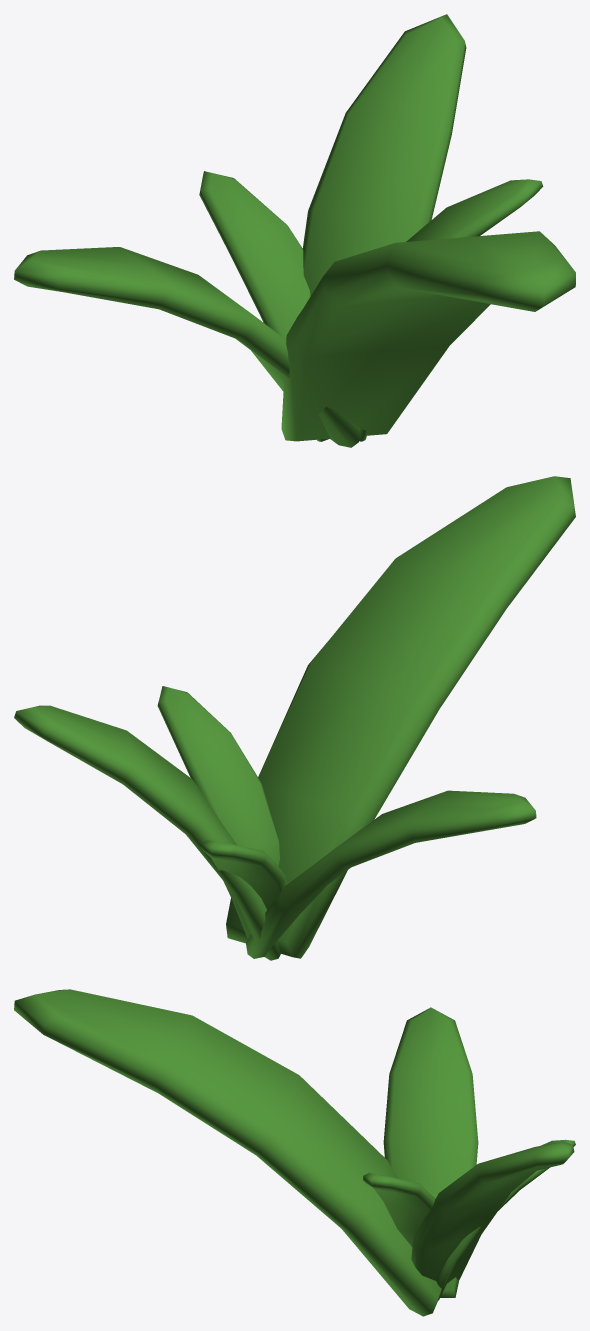
Rendered from Grass_01.fbx.
The picture shows the model from 3 angles, top to bottom: view 1: azimuth 30°, elevation 25°; view 2: azimuth 150°, elevation 25°; view 3: azimuth 270°, elevation 25°; orthographic projection. The views are drawn at different scales.
Parts seen in each view (by area): view 1: Grass_01; view 2: Grass_01; view 3: Grass_01.
Boxes of the visible parts, box(x1,y1,x2,y2) form: Grass_01: box(14, 14, 575, 447); Grass_01: box(14, 476, 575, 960); Grass_01: box(14, 989, 575, 1316).
Bounding box in the file's own units: 441 × 308 × 557.
